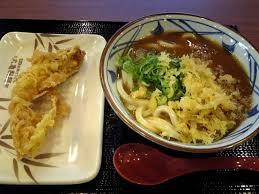curry: (97, 8, 259, 159)
